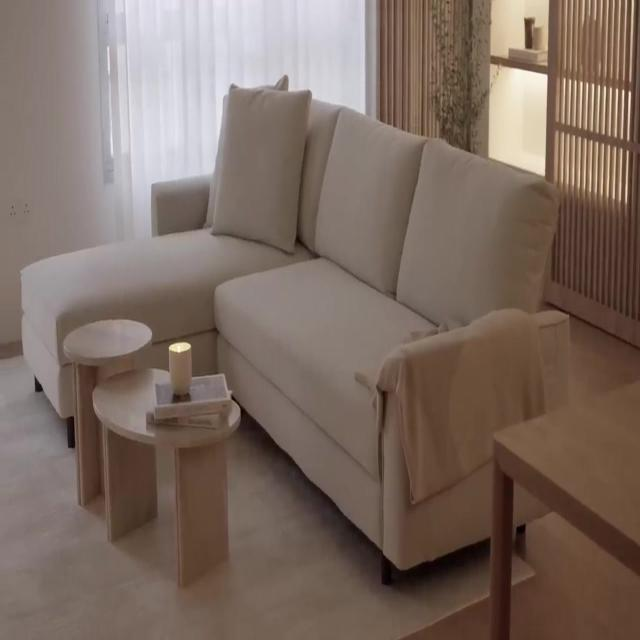obstacle: (19, 75, 570, 586), (91, 366, 241, 588), (62, 318, 152, 508)
